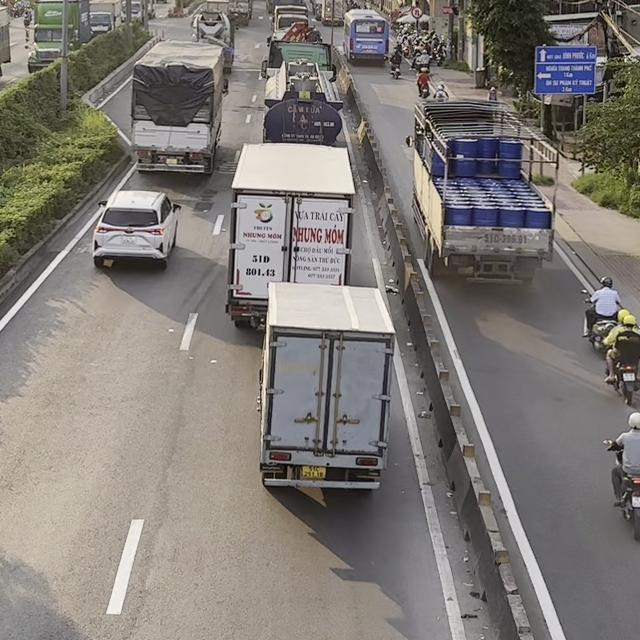bus: (342, 8, 390, 64)
car: (92, 189, 181, 269)
motorcycle: (602, 438, 639, 541), (580, 288, 620, 352), (605, 342, 639, 404), (417, 78, 430, 98), (389, 63, 401, 79)
truck: (257, 280, 396, 496), (406, 99, 559, 284), (224, 141, 355, 330), (129, 38, 229, 175), (261, 39, 344, 145)
